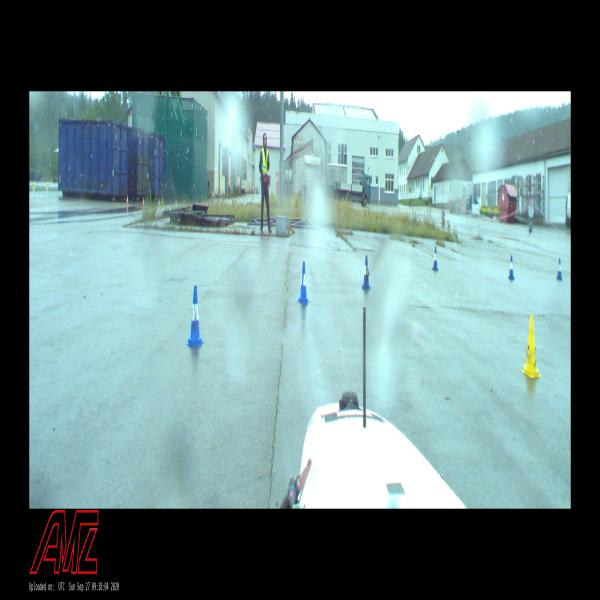blue_cone: (188, 286, 204, 346), (298, 262, 309, 304), (362, 255, 370, 288), (508, 254, 514, 280), (432, 246, 438, 272), (556, 258, 562, 279)
orange_cone: (126, 195, 129, 206), (142, 198, 145, 208), (158, 199, 160, 209), (175, 200, 177, 208)
yellow_cone: (521, 316, 541, 377), (46, 180, 48, 189), (32, 182, 34, 190), (34, 179, 36, 186)
